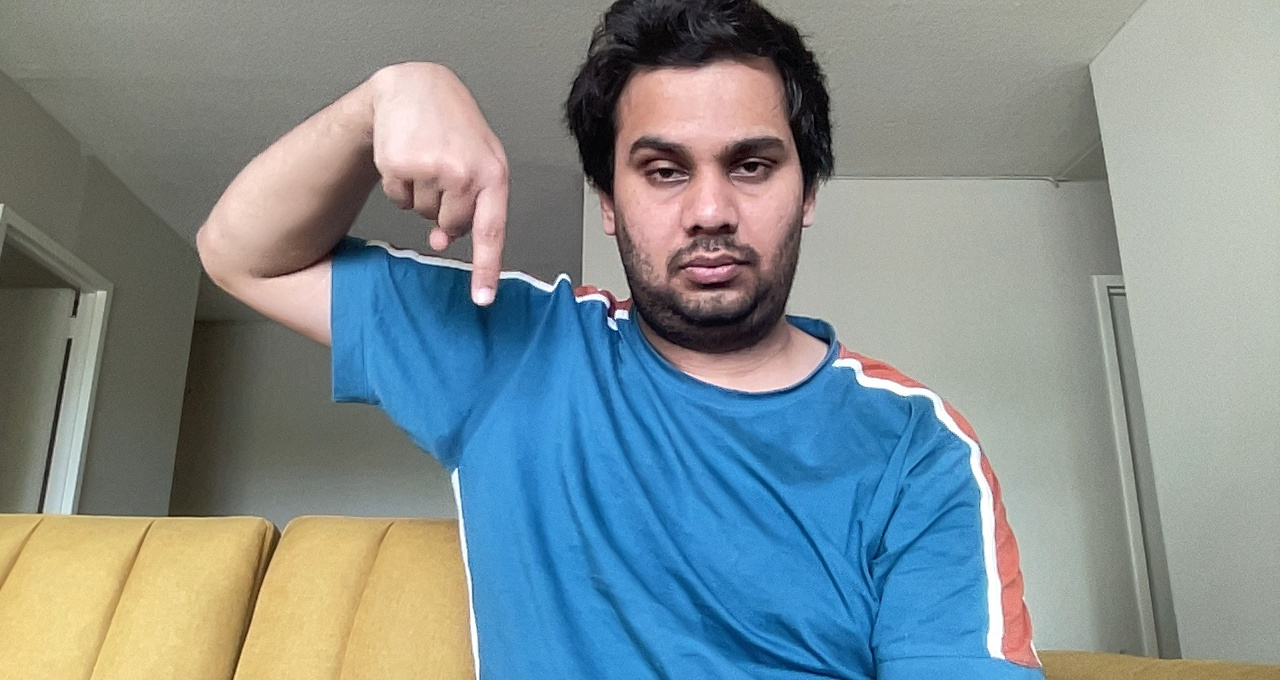fingerdown: (363, 58, 513, 315)
